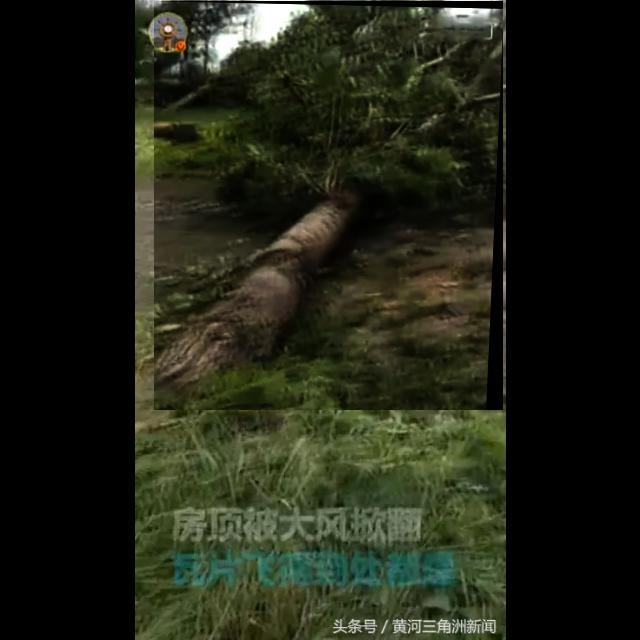fallen_tree: (154, 1, 504, 411)
